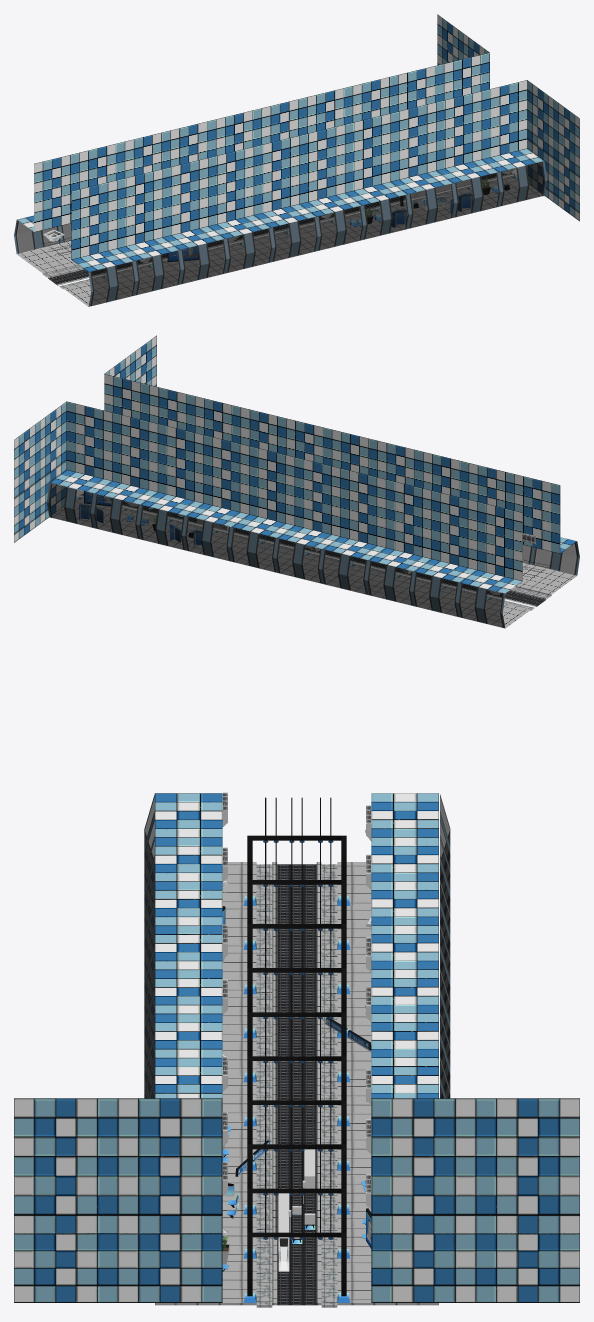
File: subwaysurferstest15.glb
The picture shows the model from 3 angles, top to bottom: view 1: azimuth 30°, elevation 25°; view 2: azimuth 150°, elevation 25°; view 3: azimuth 270°, elevation 25°; orthographic projection. The views are drawn at different scales.
Visible parts, largest first — view 1: tiledwall.016, tiledwall, tiledwall.005, tiledwall.018, tiledwall.019, tiledwall.024, tiledwall.006, tiledwall.017, tiledwall.003, tiledwall.023, tiledwall.025, tiledwall.001 (+35 smaller); view 2: tiledwall.013, tiledwall.021, tiledwall.025, tiledwall.009, tiledwall.012, tiledwall.022, tiledwall.020, tiledwall.027, tiledwall.007, tiledwall.026, tiledwall.024, tiledwall.008 (+35 smaller); view 3: tiledwall.014, tiledwall.008, tiledwall.002, tiledwall.001, tiledwall.010, tiledwall.004, tiledwall.015, tiledwall.011, tiledwall.017, tiledwall.018, tiledwall.019, tiledwall.020 (+40 smaller).
Part boxes in pixels (<box>): tiledwall.016: <box>162,158,224,249</box>; tiledwall: <box>481,80,543,171</box>; tiledwall.005: <box>390,102,452,194</box>; tiledwall.018: <box>253,136,316,227</box>; tiledwall.019: <box>208,147,270,238</box>; tiledwall.024: <box>71,180,133,272</box>; tiledwall.006: <box>345,113,407,205</box>; tiledwall.017: <box>299,124,361,216</box>; tiledwall.003: <box>436,91,498,183</box>; tiledwall.023: <box>117,169,179,260</box>; tiledwall.025: <box>17,152,79,232</box>; tiledwall.001: <box>527,80,553,167</box>; tiledwall.013: <box>50,401,112,493</box>; tiledwall.021: <box>278,457,340,548</box>; tiledwall.025: <box>460,501,522,593</box>; tiledwall.009: <box>141,423,203,515</box>; tiledwall.012: <box>95,412,157,504</box>; tiledwall.022: <box>232,446,294,537</box>; tiledwall.020: <box>323,468,385,560</box>; tiledwall.027: <box>369,479,431,571</box>; tiledwall.007: <box>187,435,248,526</box>; tiledwall.026: <box>415,490,476,582</box>; tiledwall.024: <box>514,474,576,553</box>; tiledwall.008: <box>14,421,40,508</box>; tiledwall.014: <box>371,1098,475,1234</box>; tiledwall.008: <box>475,1098,579,1234</box>; tiledwall.002: <box>14,1098,118,1234</box>; tiledwall.001: <box>118,1098,222,1234</box>; tiledwall.010: <box>14,1233,118,1302</box>; tiledwall.004: <box>118,1233,222,1302</box>; tiledwall.015: <box>371,1233,475,1302</box>; tiledwall.011: <box>475,1233,579,1302</box>; tiledwall.017: <box>155,1013,222,1057</box>; tiledwall.018: <box>155,969,222,1013</box>; tiledwall.019: <box>155,925,222,969</box>; tiledwall.020: <box>371,925,438,969</box>.
Size of the model in its own units: 403 by 88.5 by 217.
4 materials, 3 textured.
